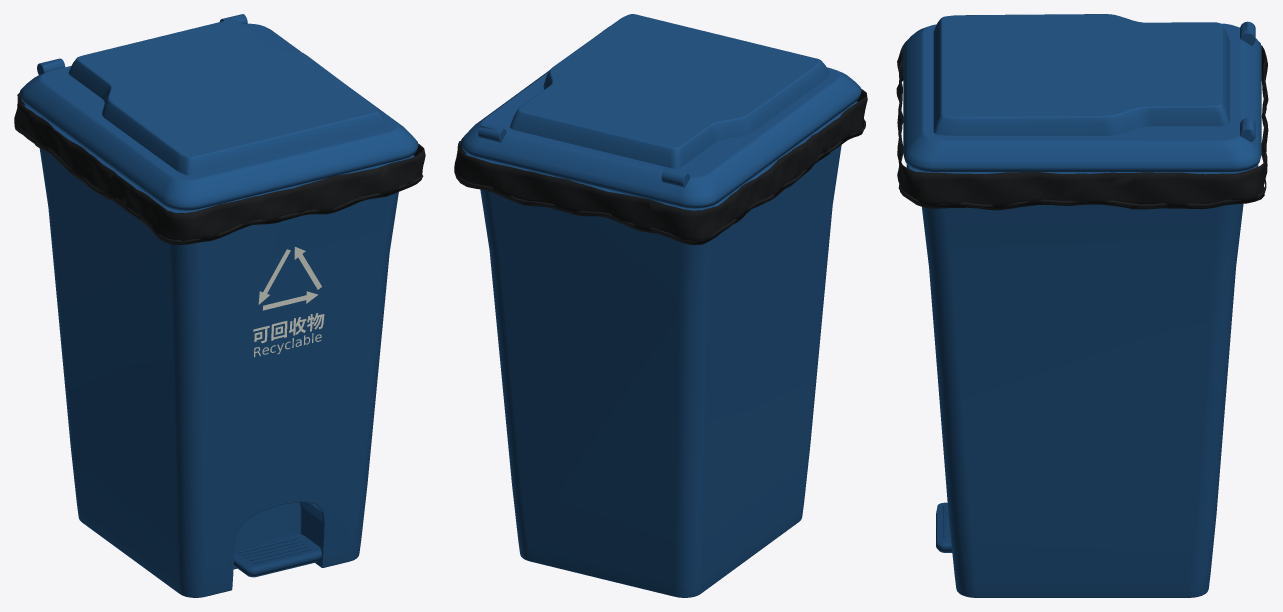
3 views of the same model, side by side, from view 1: azimuth 30°, elevation 25°; view 2: azimuth 150°, elevation 25°; view 3: azimuth 270°, elevation 25° (orthographic). The views are drawn at different scales.
Visible parts, largest first — view 1: Continuous tapered rounded bin shell, Shaped lid lip and sloping outer shoulder, Irregular black liner folded over the upper rim, Recessed rounded front foot pedal, White triangular arrow 1; view 2: Continuous tapered rounded bin shell, Shaped lid lip and sloping outer shoulder, Irregular black liner folded over the upper rim; view 3: Continuous tapered rounded bin shell, Shaped lid lip and sloping outer shoulder, Irregular black liner folded over the upper rim, Recessed rounded front foot pedal.
Part boxes in pixels (bbox=[...]): Continuous tapered rounded bin shell: bbox=[23, 14, 414, 597]; Shaped lid lip and sloping outer shoulder: bbox=[19, 19, 418, 210]; Irregular black liner folded over the upper rim: bbox=[14, 93, 425, 244]; Recessed rounded front foot pedal: bbox=[233, 534, 322, 577]; White triangular arrow 1: bbox=[253, 247, 324, 357]; Continuous tapered rounded bin shell: bbox=[464, 101, 857, 597]; Shaped lid lip and sloping outer shoulder: bbox=[460, 14, 861, 208]; Irregular black liner folded over the upper rim: bbox=[454, 89, 867, 245]; Continuous tapered rounded bin shell: bbox=[906, 21, 1258, 597]; Shaped lid lip and sloping outer shoulder: bbox=[903, 14, 1261, 171]; Irregular black liner folded over the upper rim: bbox=[896, 44, 1268, 210]; Recessed rounded front foot pedal: bbox=[936, 502, 952, 552].
Bounding box in the file's own units: 0.5036 × 0.824 × 0.5693.
